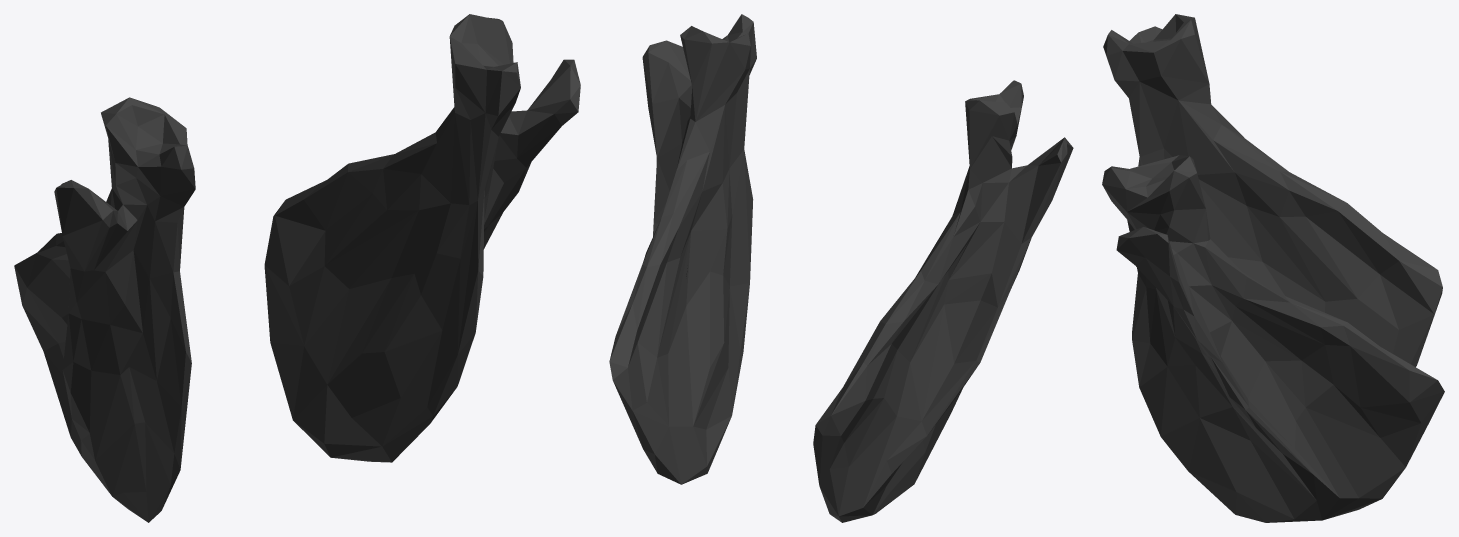
File: Scapula.glb
3 views of the same model, side by side, from view 1: azimuth 30°, elevation 25°; view 2: azimuth 150°, elevation 25°; view 3: azimuth 270°, elevation 25° (orthographic). The views are drawn at different scales.
Visible parts, largest first — view 1: Scapula; view 2: Scapula; view 3: Scapula.
Part boxes in pixels (x1,y1,x2,y2): Scapula: (14, 14, 580, 522); Scapula: (609, 14, 1073, 522); Scapula: (1102, 14, 1444, 522).
Size of the model in its own units: 0.00449 by 0.00395 by 0.00311.
Materials: 1 (1 with a texture image).
